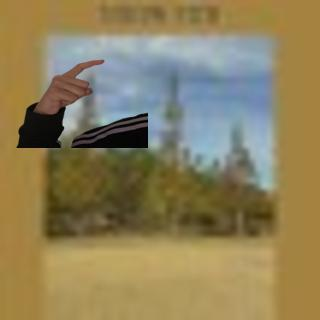WHY: (34, 54, 109, 115)
